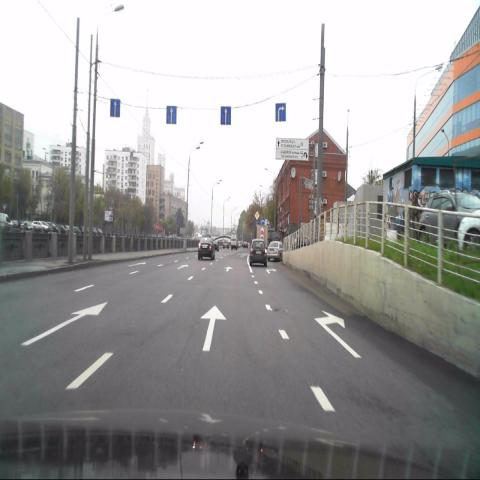5_15_2: (110, 98, 120, 118)
